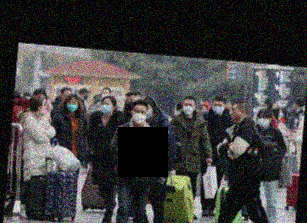with_mask: (130, 107, 147, 123), (124, 96, 138, 111), (99, 100, 113, 114), (65, 98, 79, 111), (255, 114, 269, 127), (181, 101, 195, 114), (211, 101, 224, 114), (101, 89, 110, 100), (270, 103, 279, 114), (39, 95, 47, 104), (39, 104, 45, 116), (82, 90, 88, 99)
without_mask: (229, 105, 240, 122)
